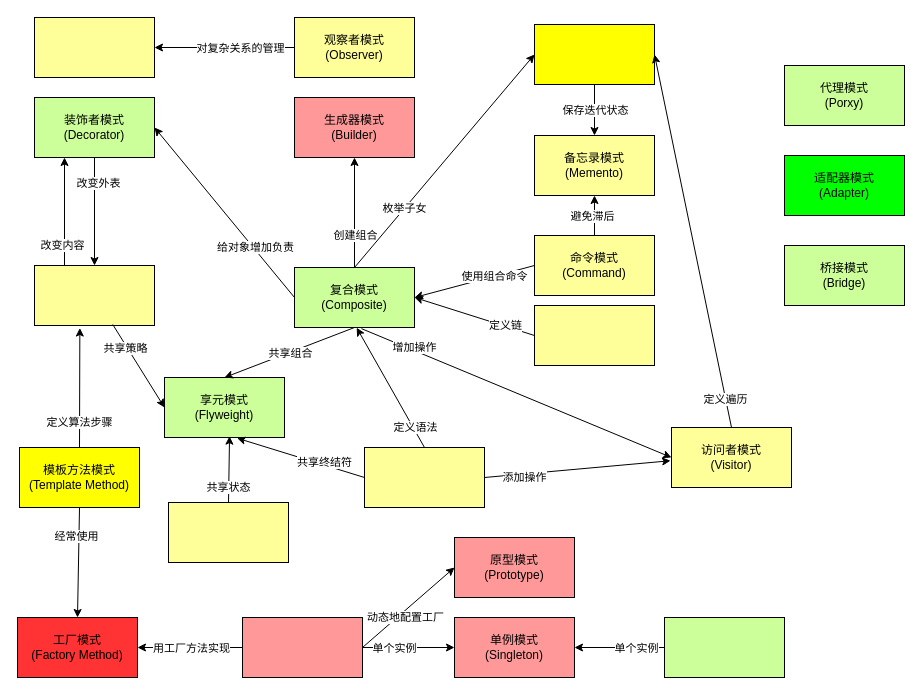
This 922x695 diagram has some shape labels left out. The shapes that lost their labels are listed below. From the top down, each one's centre as x and y in pixels, then its label:
At point 94,47: "中介者模式 (Mediator)".
At point 594,54: "解释器模式(Interpreter)".
At point 94,295: "策略模式 (Strategy)".
At point 594,335: "职责链模式 (Chain of Responsibility)".
At point 424,477: "迭代器模式 (Iterator)".
At point 228,532: "状态模式 (State)".
At point 302,647: "抽象工厂模式(Abstract Factory)".
At point 724,647: "外观模式 (Facade)".
